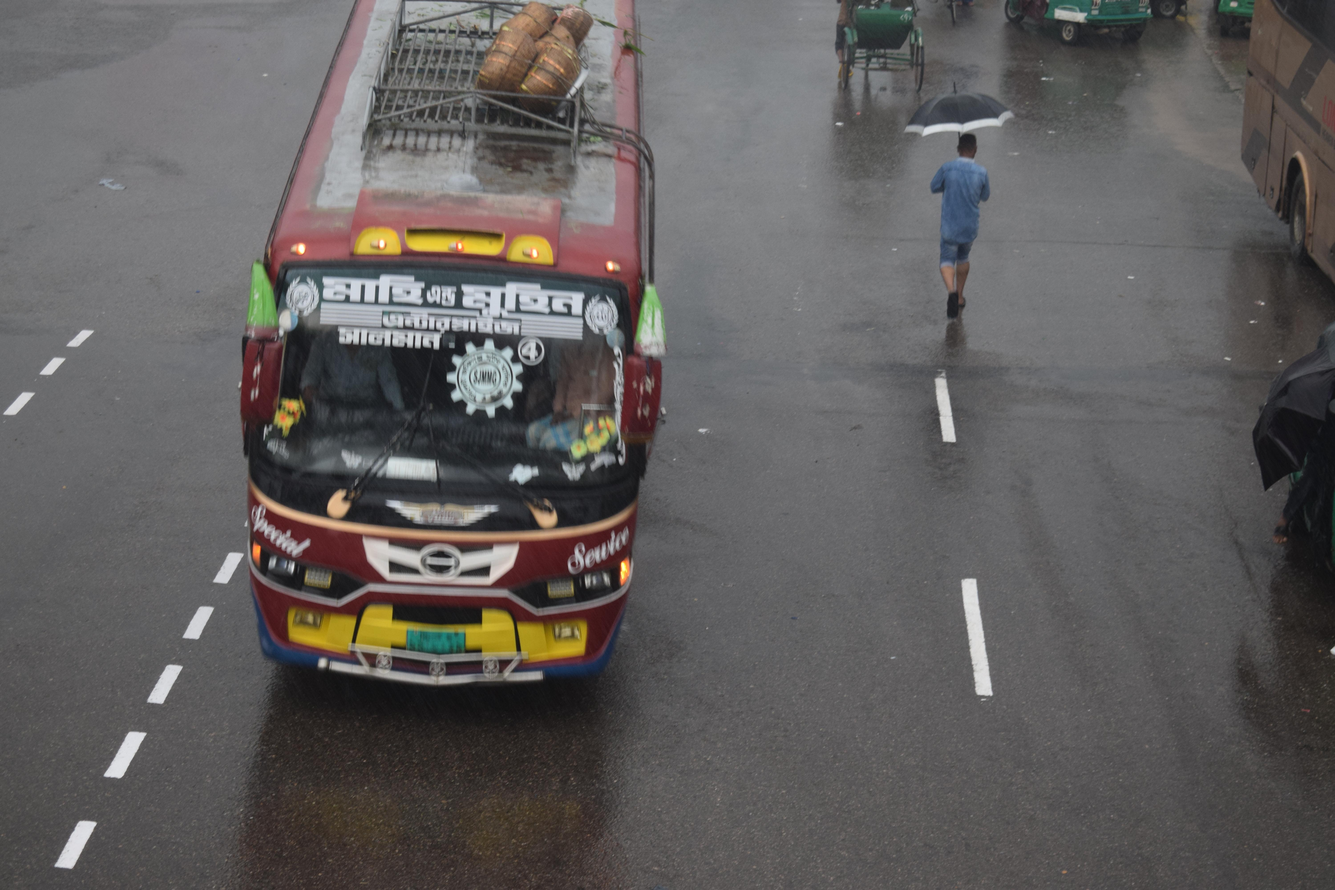Bus: (107, 0, 754, 794), (1168, 0, 1335, 336)
Car: (804, 0, 947, 125)
